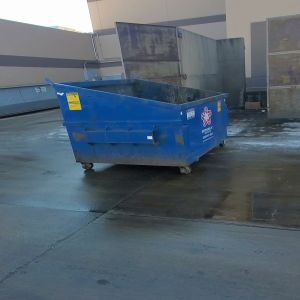Dumpster: (50, 80, 233, 178)
